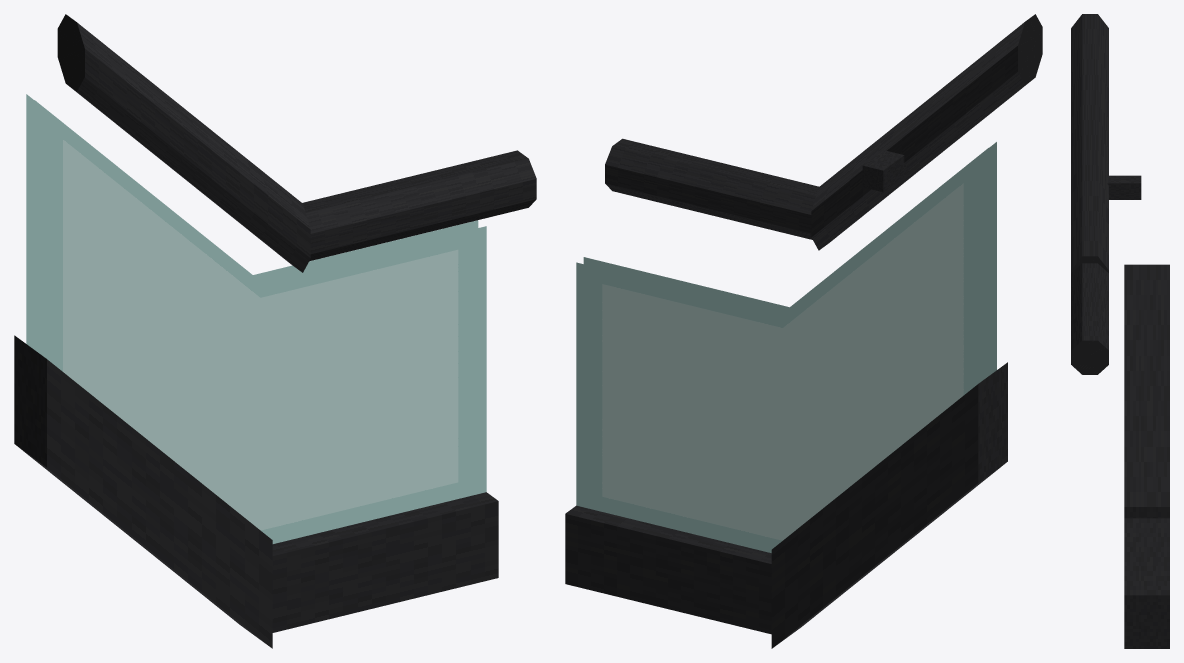
Rendered from foot_neg.obj.
3 renders of one model, left to right at view 1: azimuth 30°, elevation 25°; view 2: azimuth 150°, elevation 25°; view 3: azimuth 270°, elevation 25°, orthographic. The views are drawn at different scales.
Visible parts, largest first — view 1: railing_glass_black_foot_neg; view 2: railing_glass_black_foot_neg; view 3: railing_glass_black_foot_neg.
Part boxes in pixels (x1=…): railing_glass_black_foot_neg: x1=14, y1=14, x2=536, y2=648; railing_glass_black_foot_neg: x1=565, y1=14, x2=1042, y2=648; railing_glass_black_foot_neg: x1=1071, y1=14, x2=1169, y2=648.
Bounding box in the file's own units: 1 × 1.49 × 0.2707.
